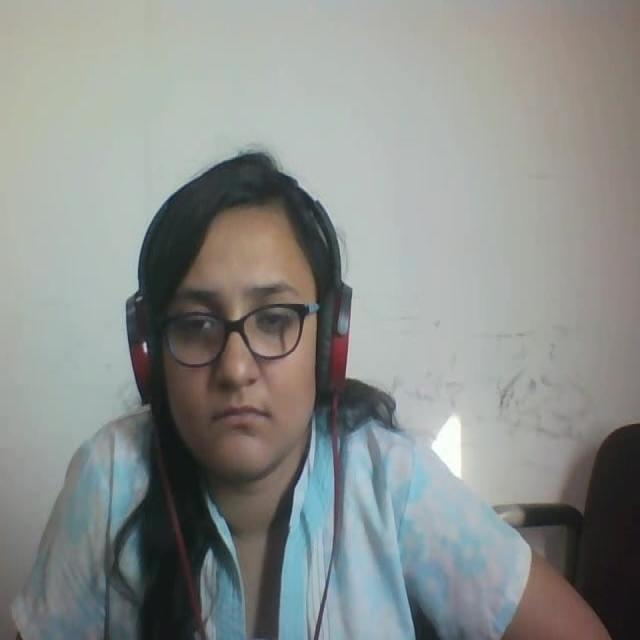Bored: (110, 144, 372, 477)
